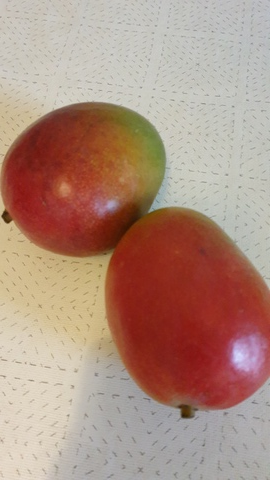Mango: (1, 102, 165, 258)
